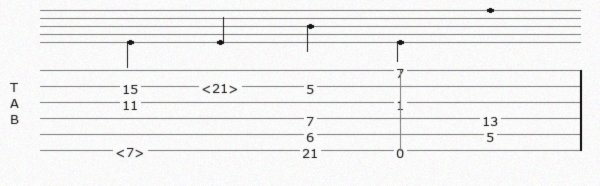0: (396, 144, 408, 157)
1: (396, 96, 408, 109)
11: (122, 96, 142, 109)
13: (482, 112, 502, 125)
15: (122, 80, 142, 93)
21: (302, 144, 322, 157)
5: (306, 80, 318, 93), (486, 128, 498, 141)
6: (306, 128, 318, 141)
7: (306, 112, 318, 125), (396, 64, 408, 77)
harmonic: (201, 79, 243, 93), (115, 143, 149, 157)
